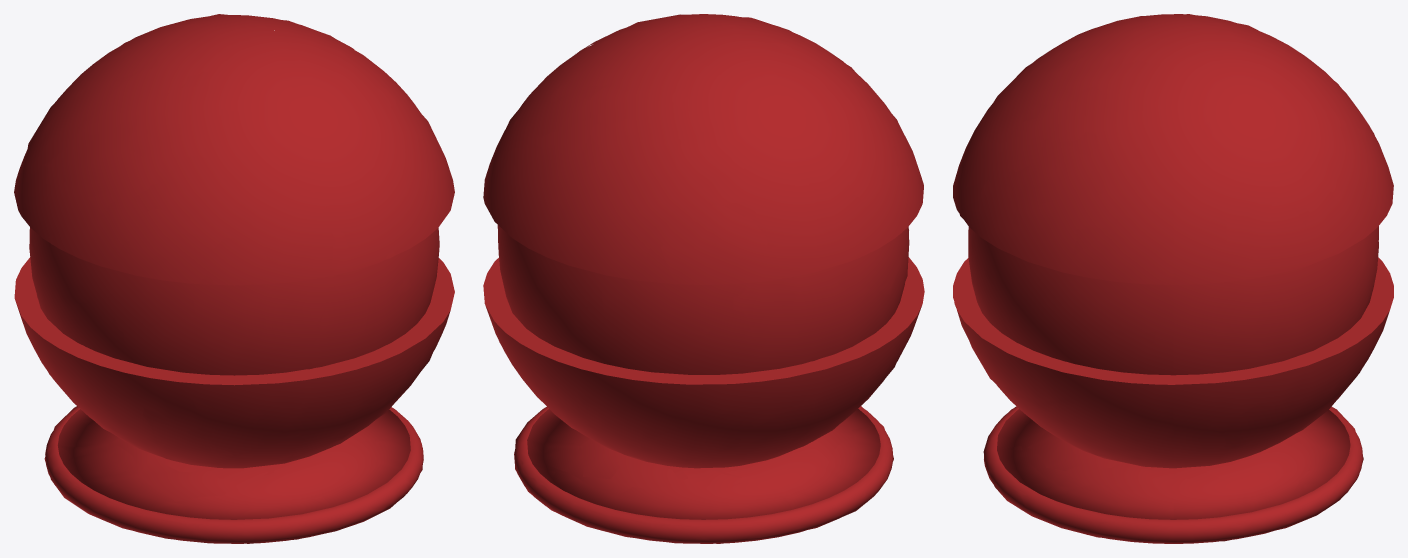
The model's file is layer-coat.low.glb.
The picture shows the model from 3 angles, left to right: view 1: azimuth 30°, elevation 25°; view 2: azimuth 150°, elevation 25°; view 3: azimuth 270°, elevation 25°; orthographic projection.
Parts seen in each view (by area): view 1: coat (×2); view 2: coat (×2); view 3: coat (×2).
Boxes of the visible parts, <box> form: coat (×2): <box>14,14,454,543</box>; coat (×2): <box>483,14,924,543</box>; coat (×2): <box>953,14,1393,543</box>.
Bounding box in the file's own units: 0.6986 × 0.7552 × 0.6971.
